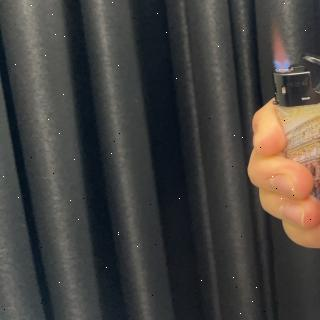fire: (270, 26, 294, 72)
